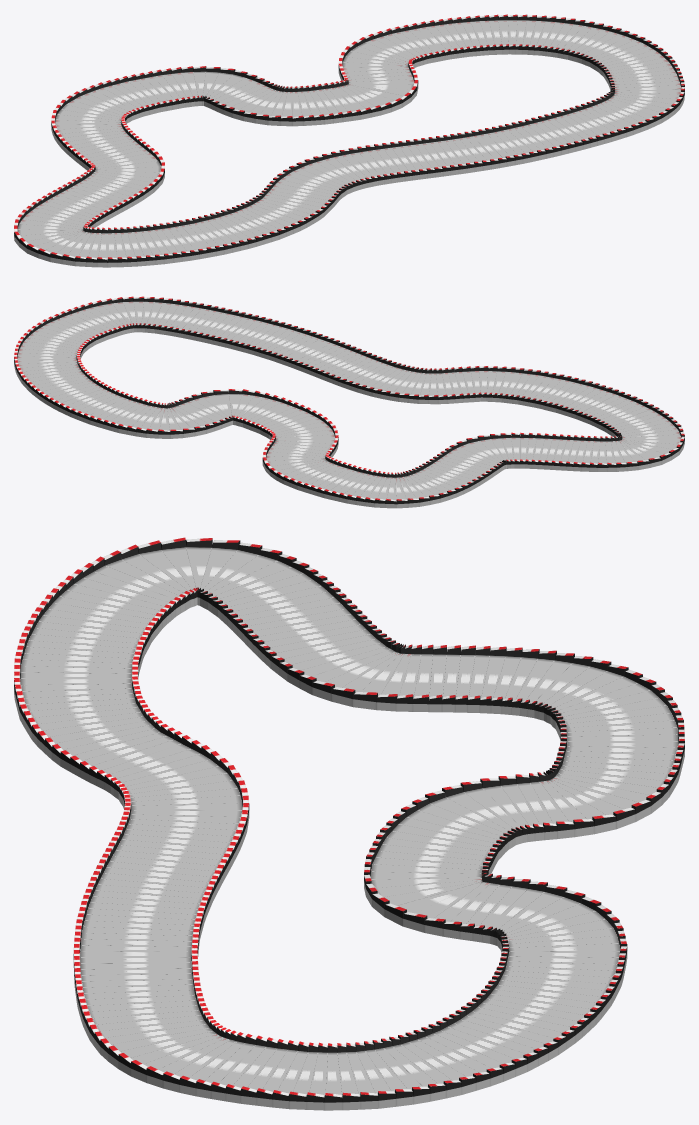
File: track.gltf
3 renders of one model, top to bottom at view 1: azimuth 30°, elevation 25°; view 2: azimuth 150°, elevation 25°; view 3: azimuth 270°, elevation 25°, orthographic. The views are drawn at different scales.
Visible parts, largest first — view 1: Track-col; view 2: Track-col; view 3: Track-col.
Part boxes in pixels (x1,y1,x2,y2): Track-col: (14, 14, 684, 267); Track-col: (14, 296, 684, 508); Track-col: (14, 537, 684, 1110).
Bounding box in the file's own units: 179 × 2.27 × 90.91.
Materials: 1 (1 with a texture image).
